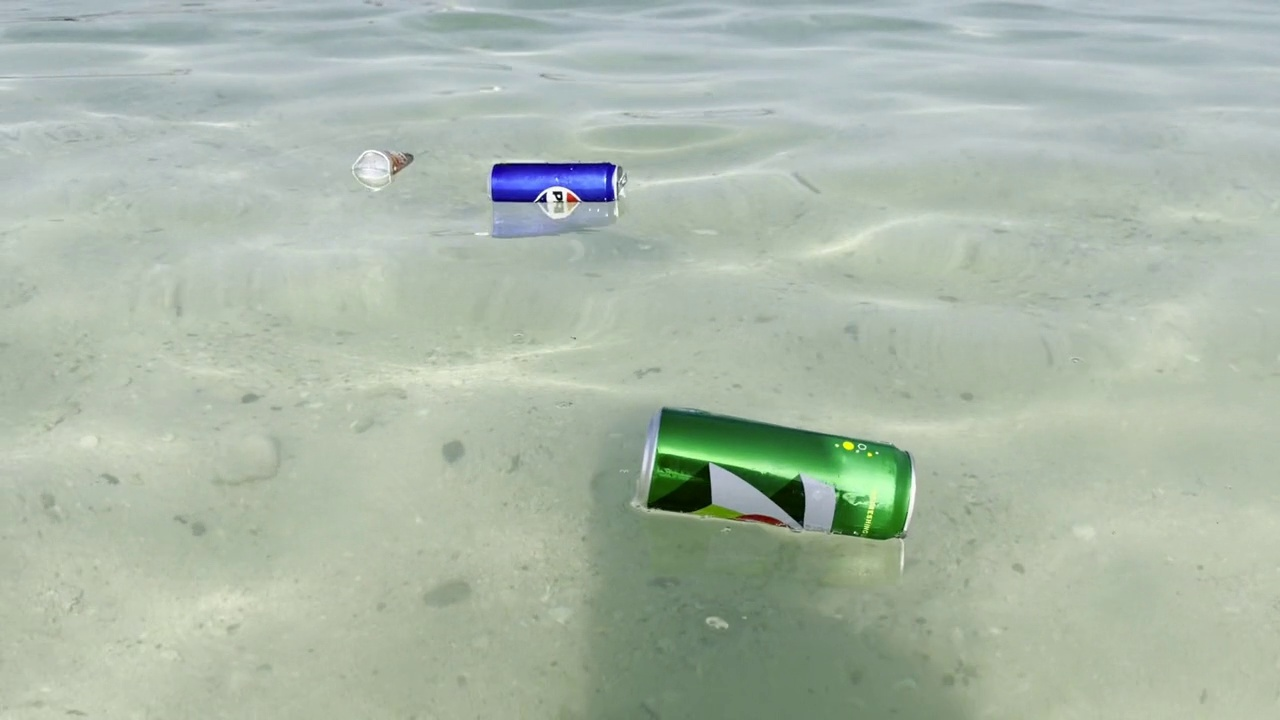debris: (630, 405, 923, 549), (482, 155, 627, 223), (345, 148, 419, 182)
